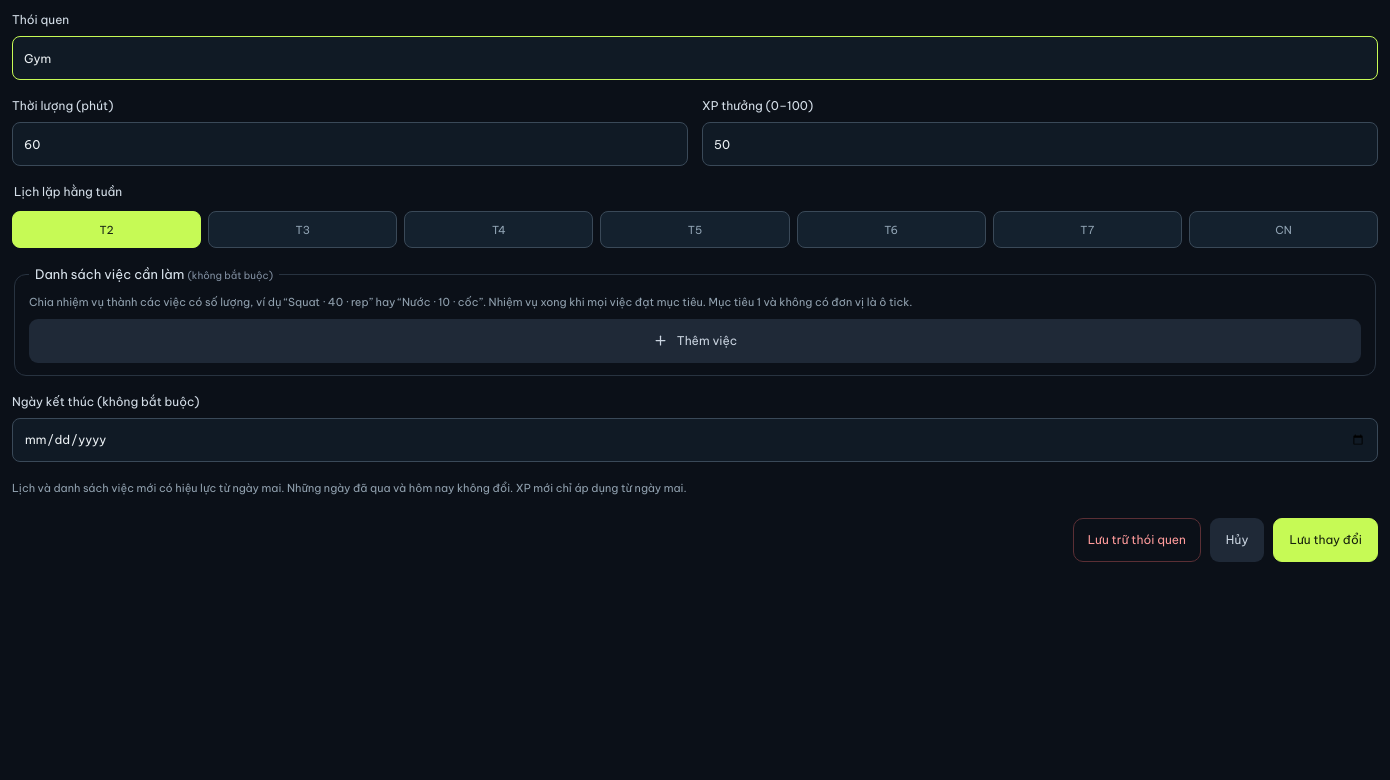
Test: EditHabitForm › will not submit with no weekday selected
This screenshot has width=1390, height=780.
Click the button "T2" at {"x": 107, "y": 230}, box [12,211,201,248]
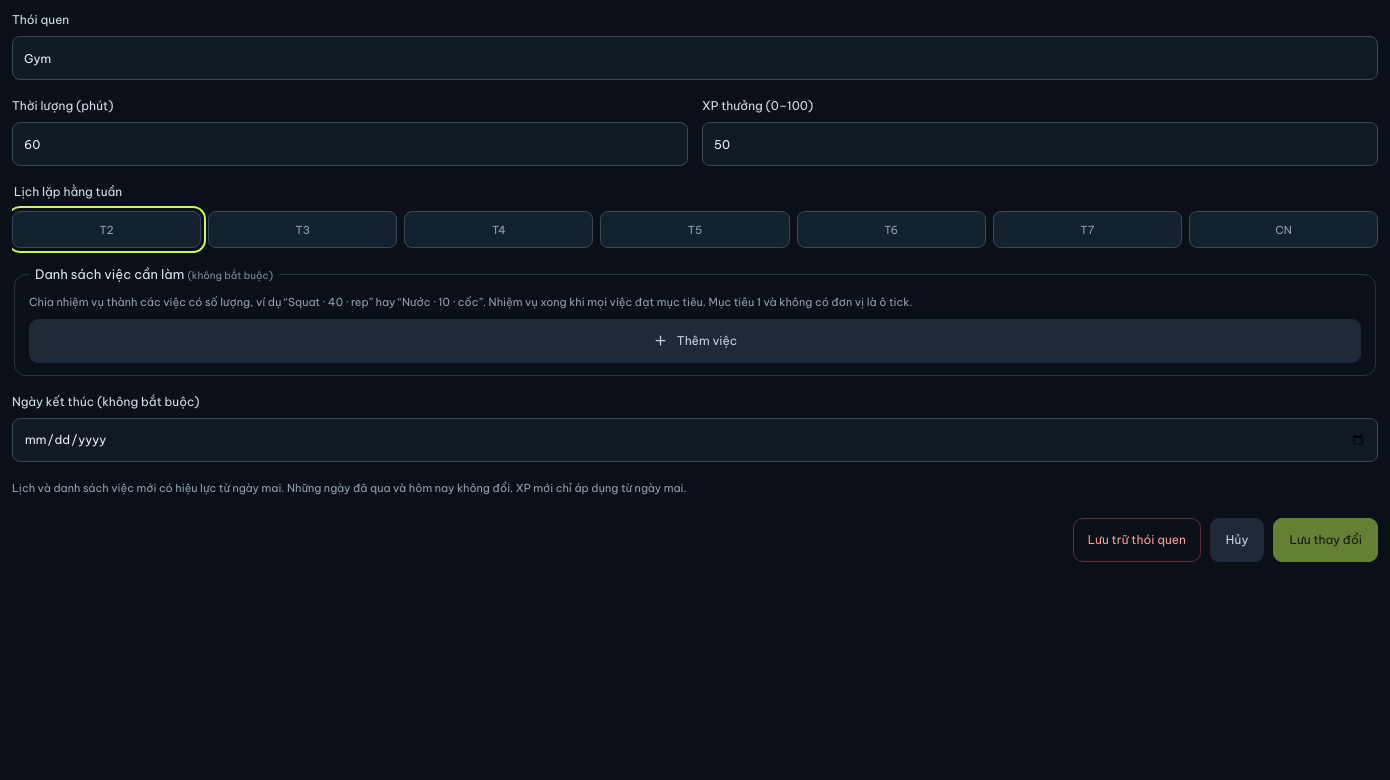
Expected: the button "Lưu thay đổi" is disabled, [1274,518,1378,562]
